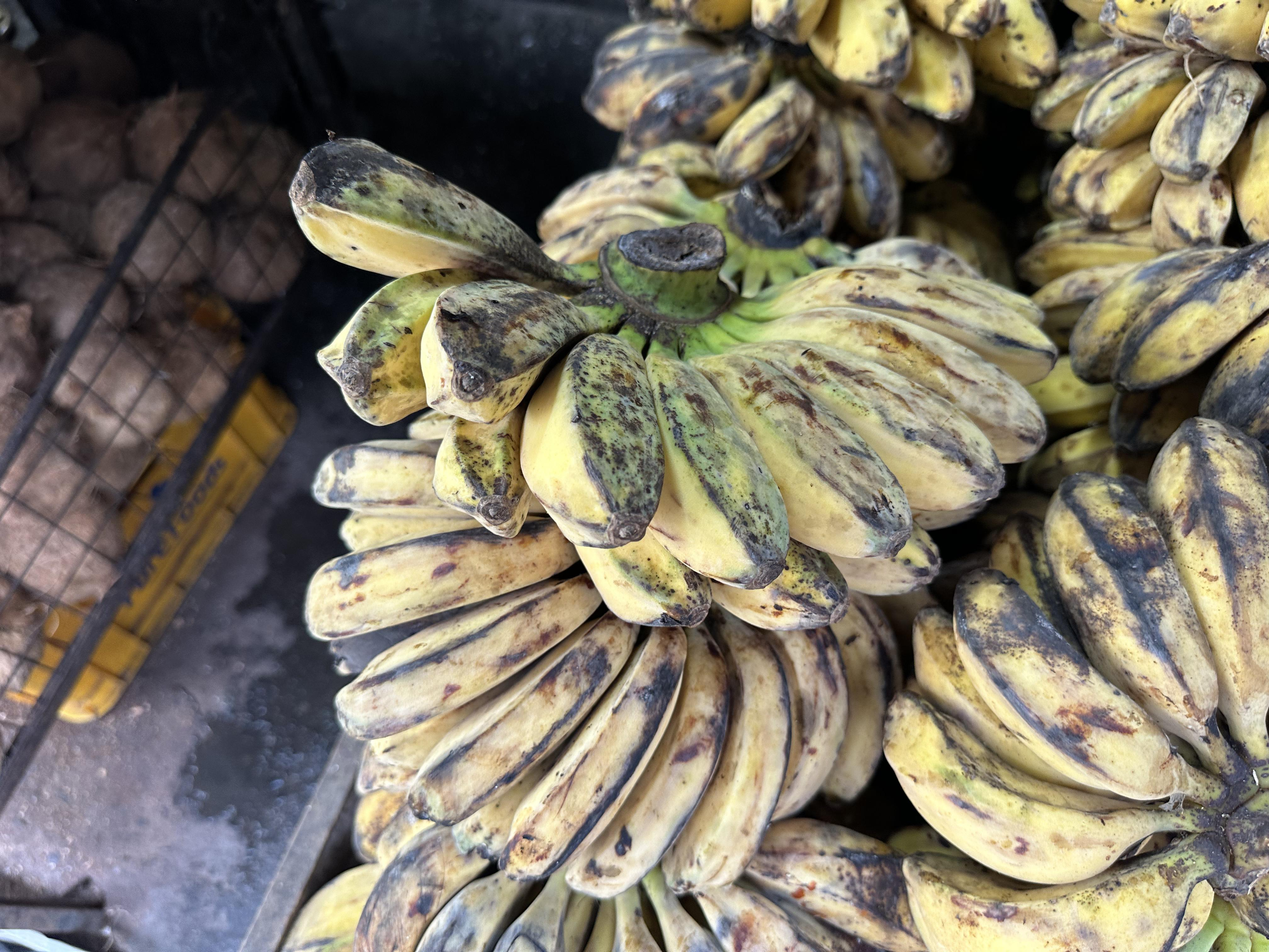ripe: (305, 438, 897, 898), (884, 419, 1269, 952), (584, 20, 953, 238), (354, 818, 923, 952), (1020, 221, 1269, 448), (1031, 22, 1269, 250), (647, 0, 1057, 122)
underripe: (290, 139, 1057, 632), (410, 411, 451, 433)
